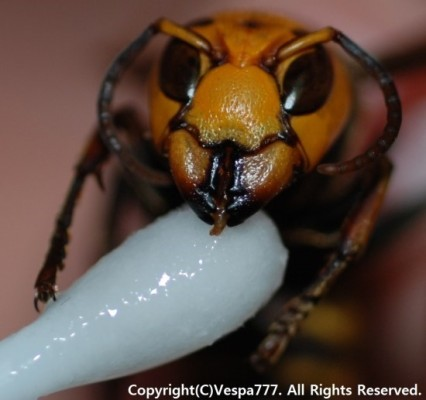asian_giant_hornet: (97, 15, 361, 227)
